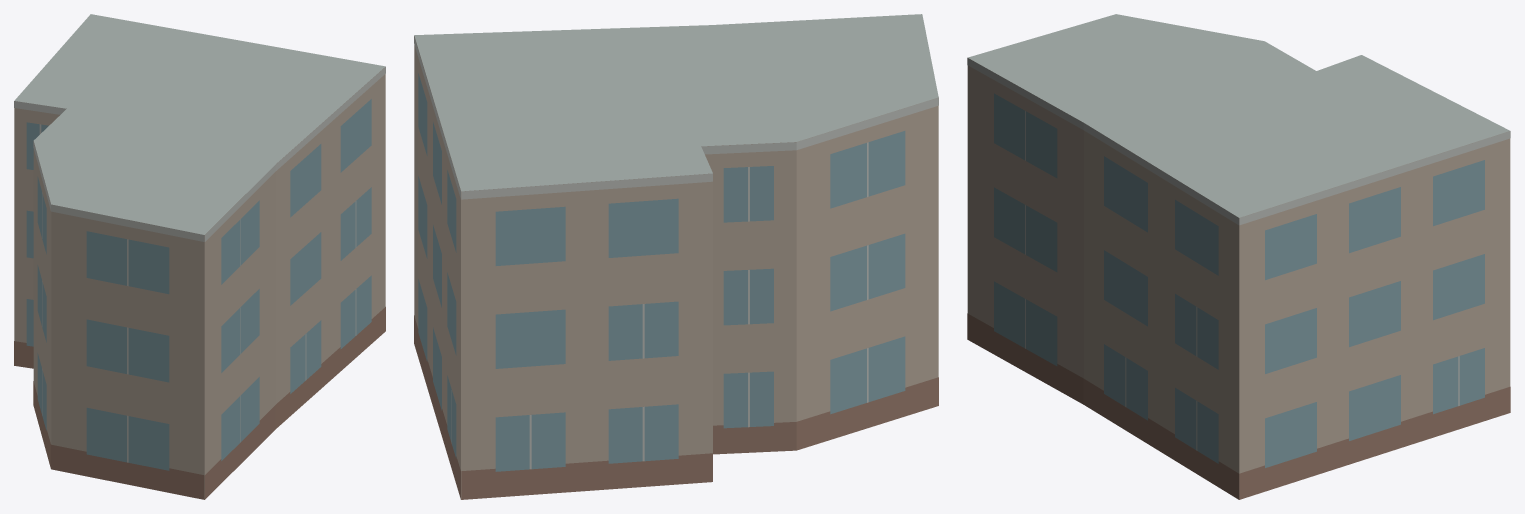
Rendered from survey-upis-32689960.glb.
3 renders of one model, left to right at view 1: azimuth 30°, elevation 25°; view 2: azimuth 150°, elevation 25°; view 3: azimuth 270°, elevation 25°, orthographic. The views are drawn at different scales.
Parts seen in each view (by area): view 1: survey-upis-32689960.tmp; view 2: survey-upis-32689960.tmp; view 3: survey-upis-32689960.tmp.
Part boxes in pixels (x1,y1,x2,y2): survey-upis-32689960.tmp: (14, 14, 385, 499); survey-upis-32689960.tmp: (414, 14, 938, 499); survey-upis-32689960.tmp: (967, 14, 1510, 499).
Bounding box in the file's own units: 14.12 × 9.1 × 15.89.
